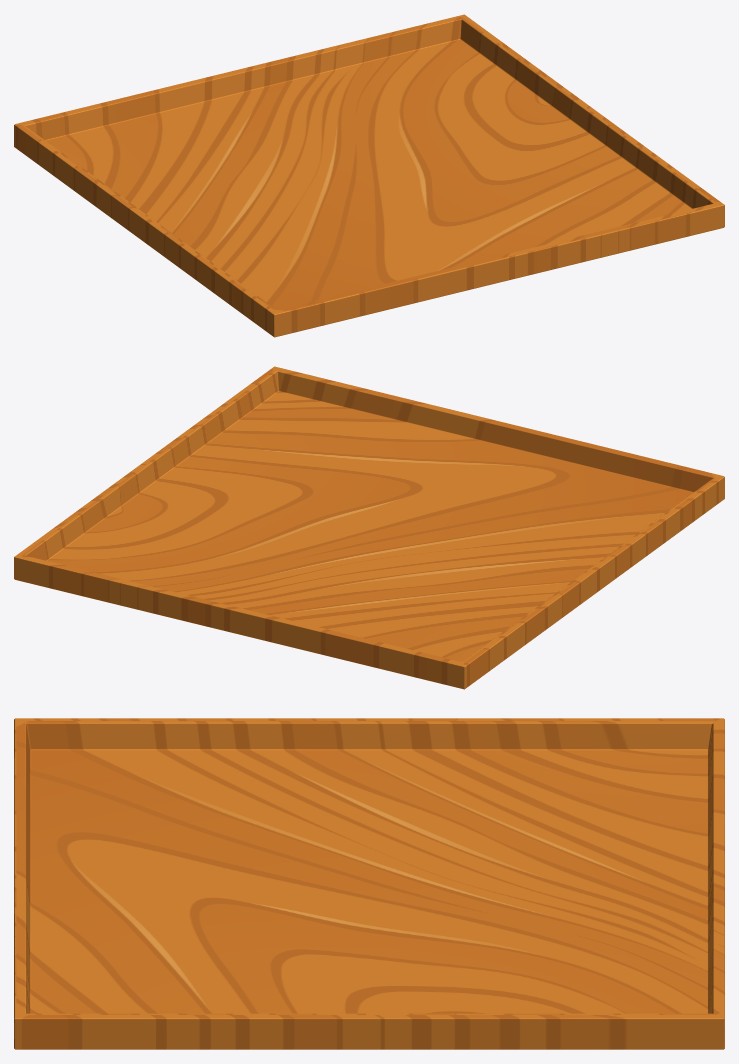
The model's file is Wood Grid.fbx.
3 views of the same model, one above another, from view 1: azimuth 30°, elevation 25°; view 2: azimuth 150°, elevation 25°; view 3: azimuth 270°, elevation 25° (orthographic). The views are drawn at different scales.
Visible parts, largest first — view 1: Cube; view 2: Cube; view 3: Cube.
Boxes of the visible parts, x1,y1,x2,y2 form: Cube: [14, 14, 724, 337]; Cube: [14, 366, 724, 689]; Cube: [14, 718, 724, 1049].
Bounding box in the file's own units: 2000 × 98.73 × 2000.
Materials: 1 (1 with a texture image).
